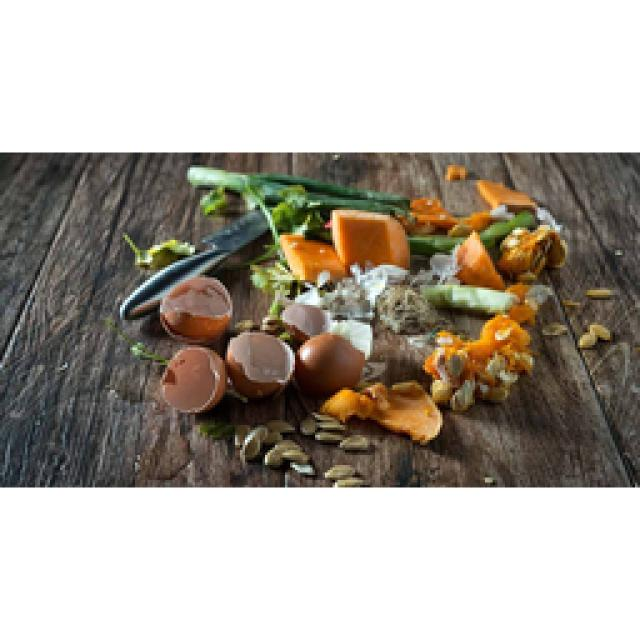food_waste: (160, 168, 565, 448), (158, 278, 230, 338)
